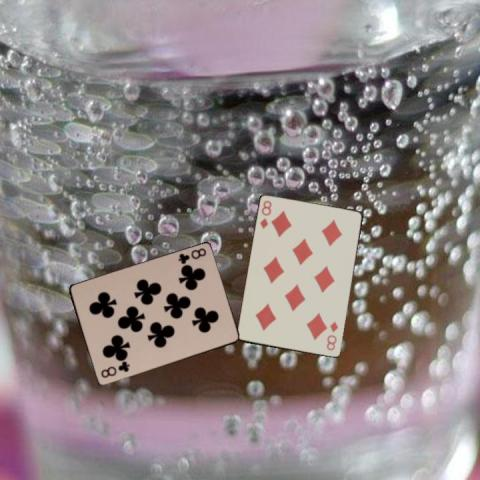8c: (176, 245, 208, 266), (98, 360, 131, 380)
8d: (257, 197, 273, 231), (324, 319, 340, 352)
